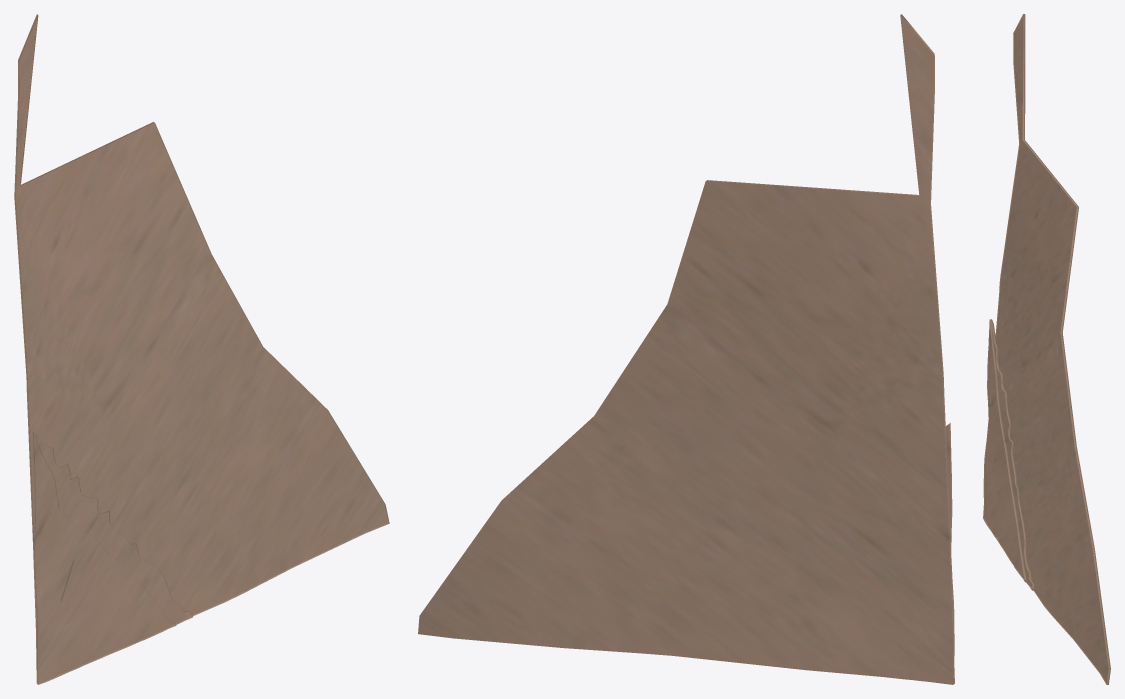
3 views of the same model, side by side, from view 1: azimuth 30°, elevation 25°; view 2: azimuth 150°, elevation 25°; view 3: azimuth 270°, elevation 25° (orthographic). The views are drawn at different scales.
Size of the model in its own units: 16.68 by 24 by 5.41.
Materials: 1 (1 with a texture image).
